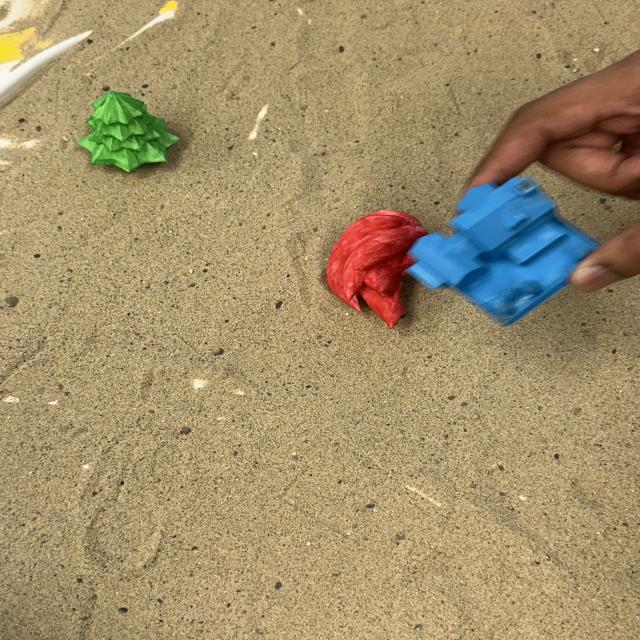fire: (324, 208, 429, 329)
house: (402, 174, 602, 328)
tree: (75, 89, 180, 174)
